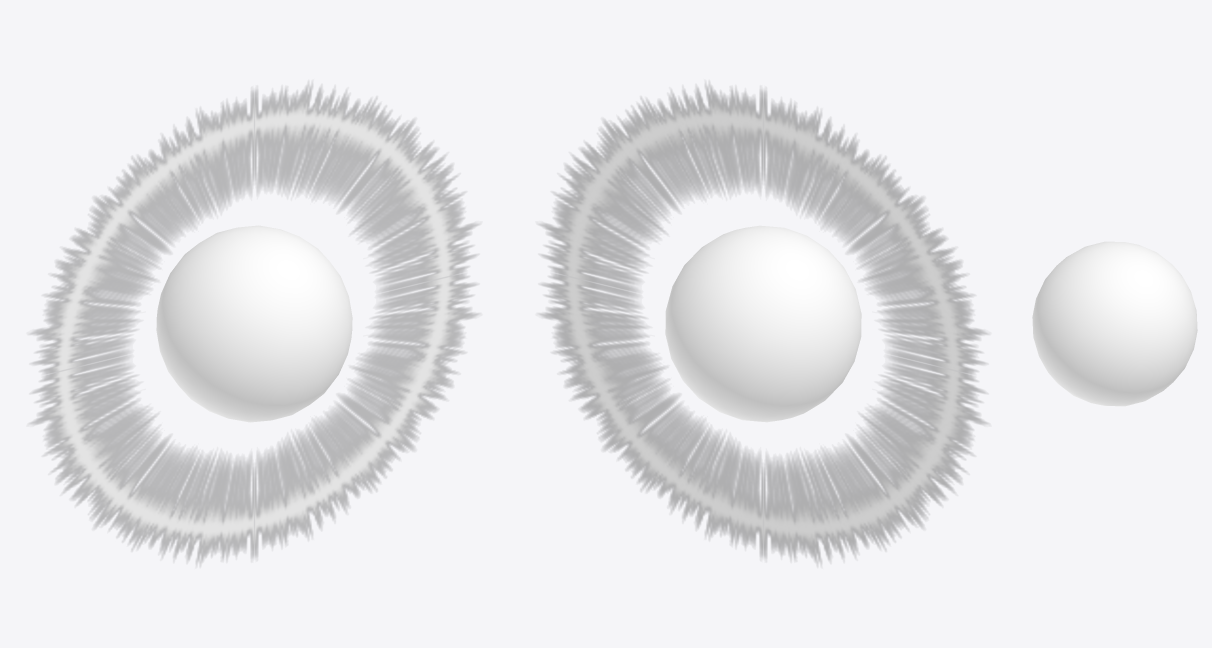
Rendered from si_eos_4100.glb.
3 renders of one model, left to right at view 1: azimuth 30°, elevation 25°; view 2: azimuth 150°, elevation 25°; view 3: azimuth 270°, elevation 25°, orthographic. The views are drawn at different scales.
Parts seen in each view (by area): view 1: layer_00_si_est_0400, layer_01_si_est_0900; view 2: layer_00_si_est_0400, layer_01_si_est_0900; view 3: layer_01_si_est_0900.
Boxes of the visible parts, <box> form: layer_00_si_est_0400: <box>30,85,478,562</box>; layer_01_si_est_0900: <box>156,225,352,422</box>; layer_00_si_est_0400: <box>539,85,987,562</box>; layer_01_si_est_0900: <box>665,225,861,422</box>; layer_01_si_est_0900: <box>1032,241,1197,406</box>.
Bounding box in the file's own units: 281 × 281 × 99.55.
2 materials, 2 textured.
